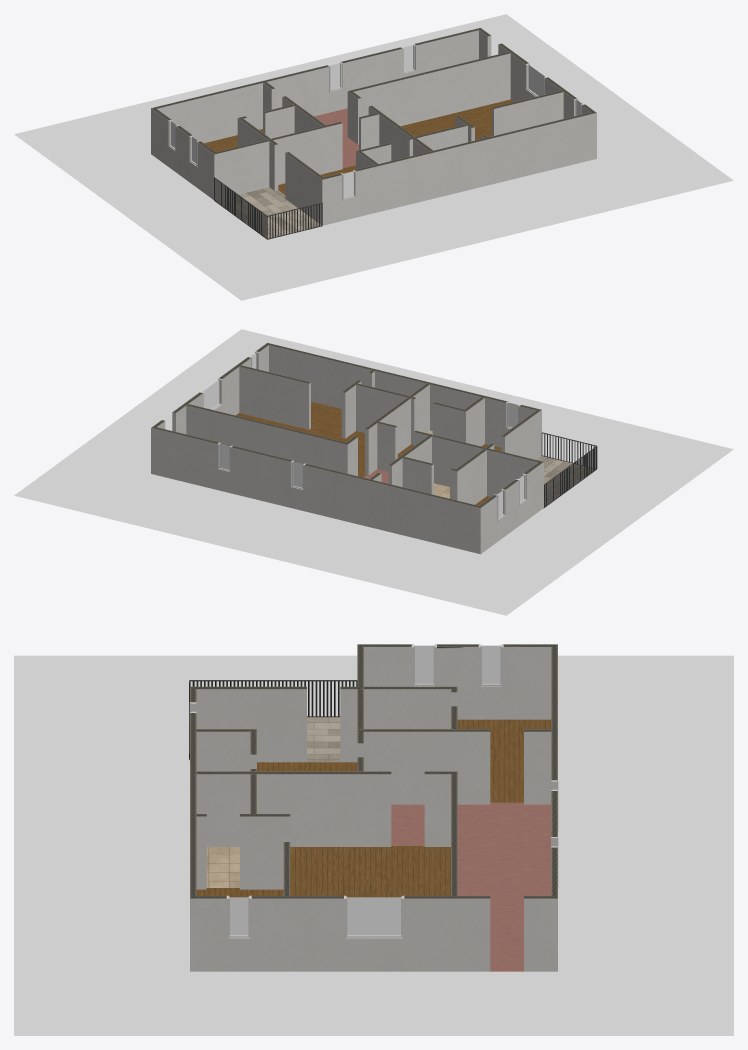
The model's file is home.gltf.
3 views of the same model, one above another, from view 1: azimuth 30°, elevation 25°; view 2: azimuth 150°, elevation 25°; view 3: azimuth 270°, elevation 25° (orthographic). The views are drawn at different scales.
Parts seen in each view (by area): view 1: ground_exterior-col, wall_01-col.060, wall_01-col.034, wall_02-col.013, ground_01-col, wall_01-col.028, wall_01-col.031, ground_02-col, wall_06-col.015, wall_05-col, wall_01-col.061, wall_01-col.063 (+9 smaller); view 2: ground_exterior-col, wall_01-col.024, wall_01-col.062, wall_02-col.006, wall_06-col.006, wall_01-col.028, ground_01-col, wall_02-col.009, wall_01-col.063, wall_05-col, wall_01-col.037, wall_07-col.008 (+12 smaller); view 3: ground_exterior-col, ground_01-col, wall_01-col.047, wall_02-col.015, wall_01-col.036, wall_03-col.020, wall_01-col.042, wall_04-col.014, wall_06-col.016, Window_07-col, wall_01-col.026, wall_07-col.019 (+12 smaller).
Boxes of the visible parts, box(x1,y1,x2,y2) form: ground_exterior-col: box(14, 14, 733, 300); wall_01-col.060: box(322, 113, 596, 225); wall_01-col.034: box(157, 30, 478, 143); wall_02-col.013: box(353, 53, 510, 126); ground_01-col: box(204, 99, 513, 194); wall_01-col.028: box(151, 108, 214, 199); wall_01-col.031: box(214, 141, 269, 199); ground_02-col: box(216, 187, 321, 238); wall_06-col.015: box(494, 92, 563, 135); wall_05-col: box(271, 126, 324, 184); wall_01-col.061: box(285, 153, 322, 224); wall_01-col.063: box(498, 44, 590, 118); ground_exterior-col: box(14, 329, 733, 615); wall_01-col.024: box(151, 428, 480, 554); wall_01-col.062: box(269, 345, 535, 447); wall_02-col.006: box(186, 405, 347, 473); wall_06-col.006: box(239, 367, 308, 429); wall_01-col.028: box(480, 462, 543, 553); ground_01-col: box(236, 401, 501, 505); wall_02-col.009: box(368, 385, 429, 474); wall_01-col.063: box(176, 345, 268, 434); wall_05-col: box(432, 435, 484, 486); wall_01-col.037: box(487, 450, 537, 496); wall_07-col.008: box(356, 385, 406, 432); ground_exterior-col: box(14, 655, 733, 1035); ground_01-col: box(196, 719, 551, 971); wall_01-col.047: box(190, 898, 490, 971); wall_02-col.015: box(196, 774, 391, 846); wall_01-col.036: box(364, 647, 551, 719); wall_03-col.020: box(364, 732, 490, 804); wall_01-col.042: box(196, 689, 306, 762); wall_04-col.014: box(364, 689, 450, 728); wall_06-col.016: box(240, 816, 290, 889); Window_07-col: box(344, 895, 404, 939); wall_01-col.026: box(524, 898, 557, 971); wall_07-col.019: box(196, 732, 250, 771).
Size of the model in its own units: 26.89 by 2.45 by 21.52.
2 materials, 1 textured.
